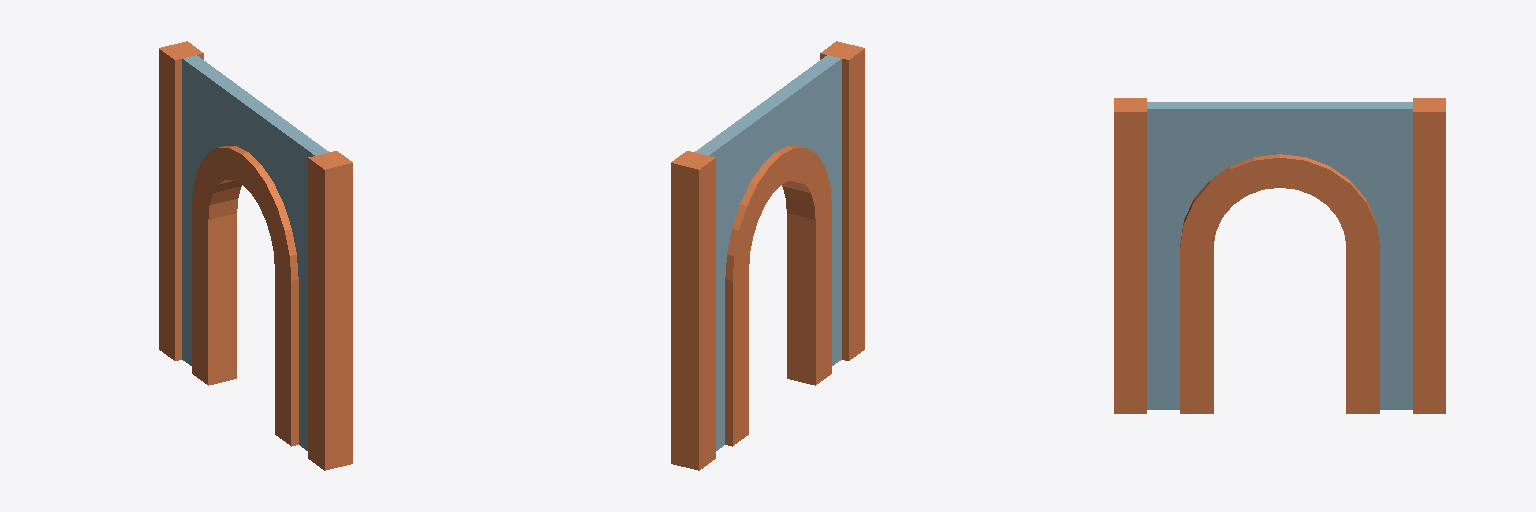
File: wallNODoor.obj
3 renders of one model, left to right at view 1: azimuth 30°, elevation 25°; view 2: azimuth 150°, elevation 25°; view 3: azimuth 270°, elevation 25°, orthographic.
Visible parts, largest first — view 1: wallDoor; view 2: wallDoor; view 3: wallDoor.
Boxes of the visible parts, x1,y1,x2,y2 form: wallDoor: [159, 41, 352, 470]; wallDoor: [671, 41, 864, 470]; wallDoor: [1114, 98, 1445, 413].
Bounding box in the file's own units: 0.1 × 1 × 1.